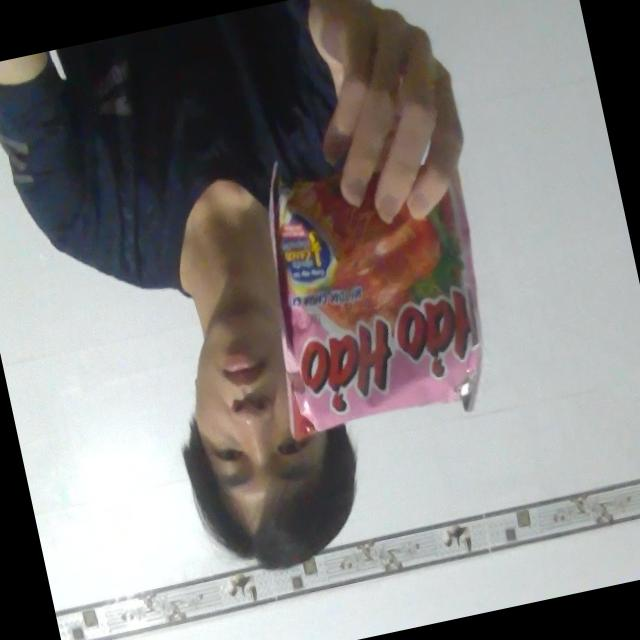mi hao hao: (218, 111, 528, 462)
